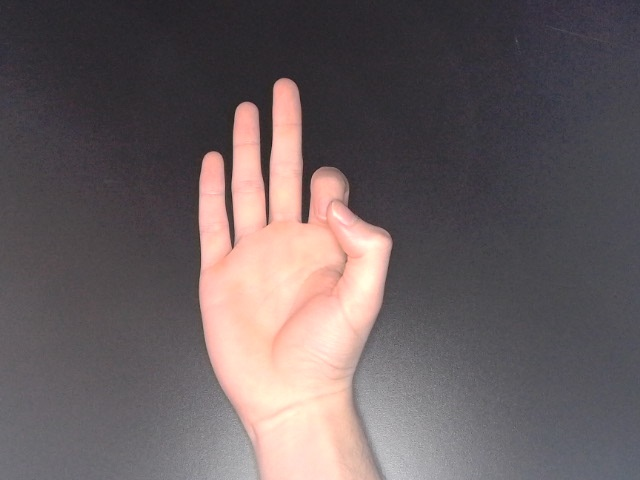f: (190, 73, 396, 443)
